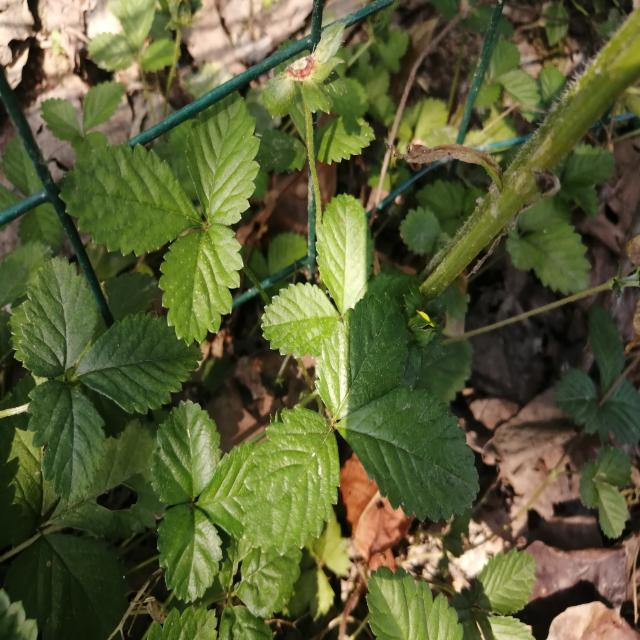Mock_strawberry: (219, 284, 483, 530), (55, 124, 283, 335)
